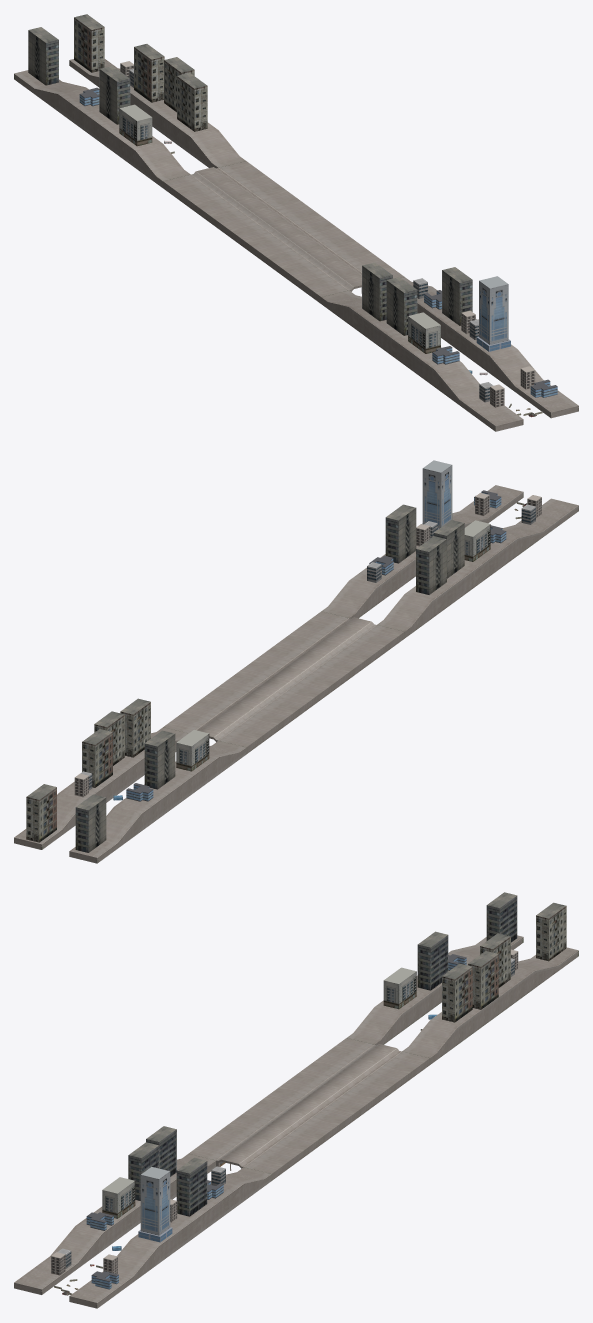
The model's file is Dummymaster.dae.
3 views of the same model, one above another, from view 1: azimuth 30°, elevation 25°; view 2: azimuth 150°, elevation 25°; view 3: azimuth 330°, elevation 25° (orthographic).
Parts seen in each view (by area): view 1: tunnel, building5, building15, building23, building24, building17, building021, building10, building11, building13, building18, building9 (+1 smaller); view 2: tunnel, building5, building021, building23, building10, building13, building24, building17, building15, building18, building11, building9 (+1 smaller); view 3: tunnel, building5, building10, building15, building021, building24, building16, building23, building18, building9, building11, building13 (+1 smaller).
Boxes of the visible parts, box(x1,y1,x2,y2) form: tunnel: box(14, 59, 578, 431); building5: box(476, 276, 510, 351); building15: box(177, 73, 207, 131); building23: box(28, 27, 58, 85); building24: box(74, 14, 104, 72); building17: box(134, 44, 164, 102); building021: box(99, 65, 130, 124); building10: box(442, 267, 472, 325); building11: box(386, 277, 417, 335); building13: box(362, 262, 392, 321); building18: box(119, 104, 152, 146); building9: box(408, 312, 440, 353); tunnel: box(14, 485, 578, 863); building5: box(422, 460, 452, 529); building021: box(144, 730, 175, 789); building23: box(75, 794, 106, 852); building10: box(385, 504, 416, 563); building13: box(416, 536, 446, 594); building24: box(26, 784, 56, 842); building17: box(82, 729, 112, 787); building15: box(120, 698, 150, 757); building18: box(176, 730, 209, 771); building11: box(433, 520, 464, 578); building9: box(464, 520, 490, 561); tunnel: box(14, 935, 578, 1308); building5: box(138, 1167, 172, 1242); building10: box(176, 1157, 207, 1216); building15: box(442, 963, 472, 1022); building021: box(417, 931, 448, 990); building24: box(536, 902, 566, 961); building16: box(468, 951, 498, 1009); building23: box(486, 892, 517, 942); building18: box(383, 967, 416, 1009); building9: box(102, 1177, 135, 1218); building11: box(128, 1142, 159, 1200); building13: box(146, 1126, 176, 1176).
Size of the model in its own units: 119 by 110 by 1193.
Materials: 16 (16 with a texture image).
